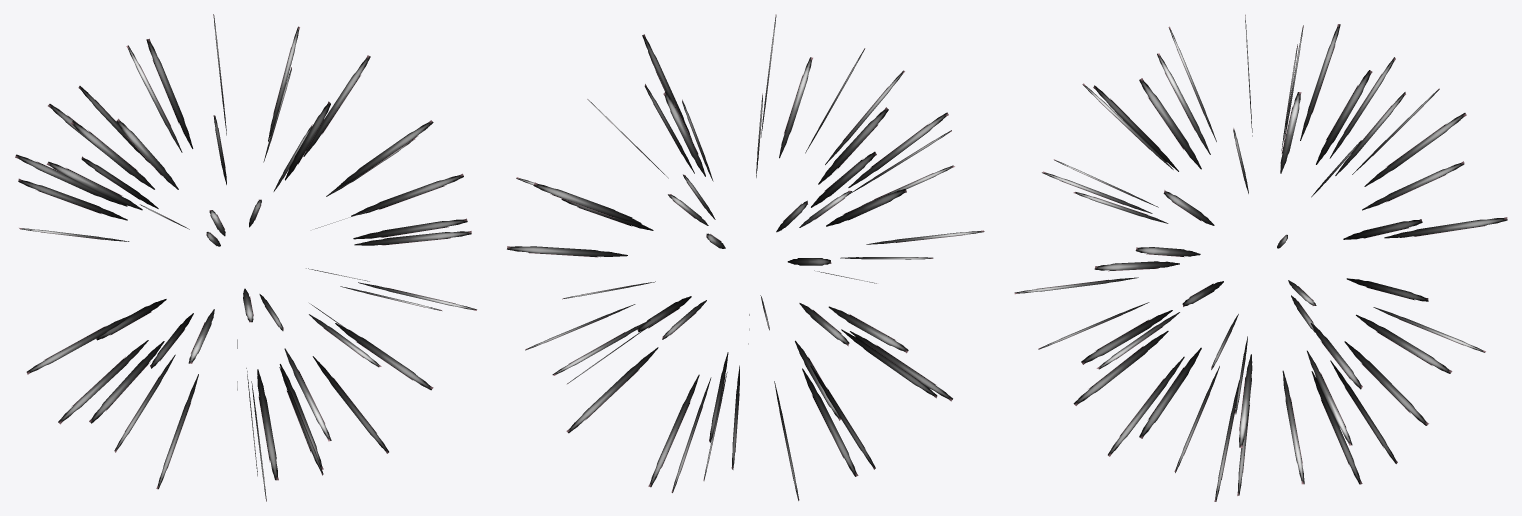
3 renders of one model, left to right at view 1: azimuth 30°, elevation 25°; view 2: azimuth 150°, elevation 25°; view 3: azimuth 270°, elevation 25°, orthographic.
Visible parts, largest first — view 1: T1L9M004_16; view 2: T1L9M004_16; view 3: T1L9M004_16.
Boxes of the visible parts, x1=… form: T1L9M004_16: x1=15, y1=14, x2=476, y2=501; T1L9M004_16: x1=507, y1=14, x2=984, y2=500; T1L9M004_16: x1=1014, y1=14, x2=1507, y2=501.
Size of the model in its own units: 3.85 by 3.83 by 3.94.
